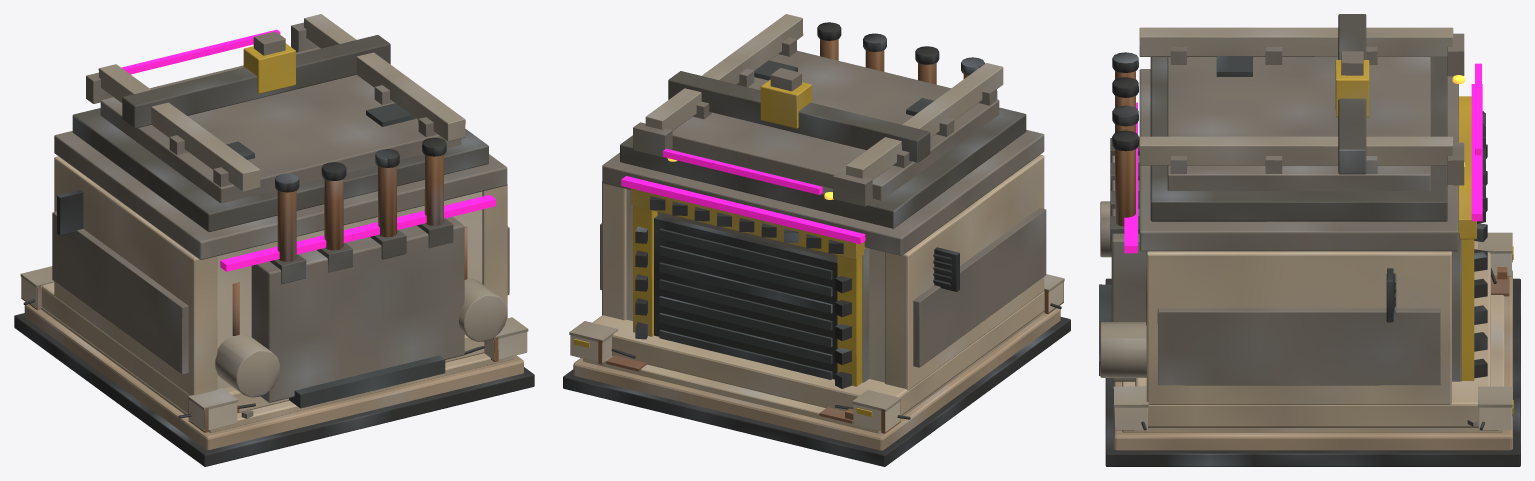
File: heavy_factory.glb
3 renders of one model, left to right at view 1: azimuth 30°, elevation 25°; view 2: azimuth 150°, elevation 25°; view 3: azimuth 270°, elevation 25°, orthographic. The views are drawn at different scales.
Parts seen in each view (by area): view 1: Sandwar3D; view 2: Sandwar3D; view 3: Sandwar3D.
Boxes of the visible parts, left/top/right/bottom form: Sandwar3D: left=14, top=14, right=534, bottom=466; Sandwar3D: left=563, top=14, right=1070, bottom=466; Sandwar3D: left=1099, top=14, right=1520, bottom=466.
Bounding box in the file's own units: 3.24 × 2.6 × 3.01.
Materials: 12 (11 with a texture image).
